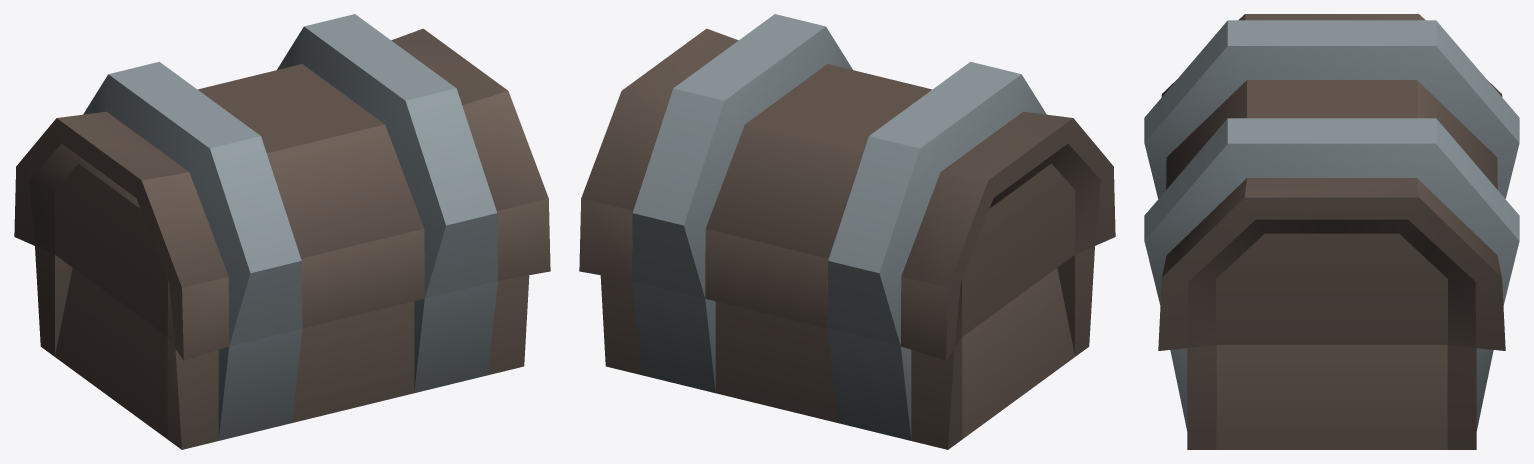
The model's file is trunk_small_B.gltf.
The picture shows the model from 3 angles, left to right: view 1: azimuth 30°, elevation 25°; view 2: azimuth 150°, elevation 25°; view 3: azimuth 270°, elevation 25°; orthographic projection. The views are drawn at different scales.
Parts seen in each view (by area): view 1: trunk_small_B; view 2: trunk_small_B; view 3: trunk_small_B.
Boxes of the visible parts, x1,y1,x2,y2 form: trunk_small_B: (14,14,550,449); trunk_small_B: (579,14,1115,449); trunk_small_B: (1144,14,1519,449).
Size of the model in its own units: 0.6754 by 0.4843 by 0.5834.
Materials: 1 (1 with a texture image).
